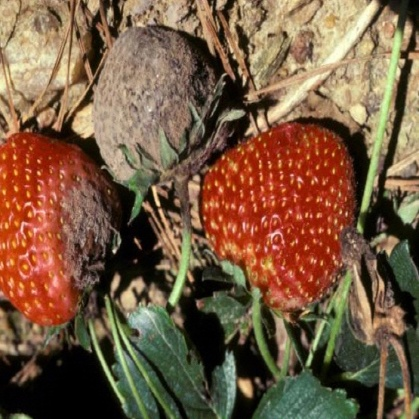Gray_Mold: (77, 116, 367, 308), (116, 182, 328, 394)
